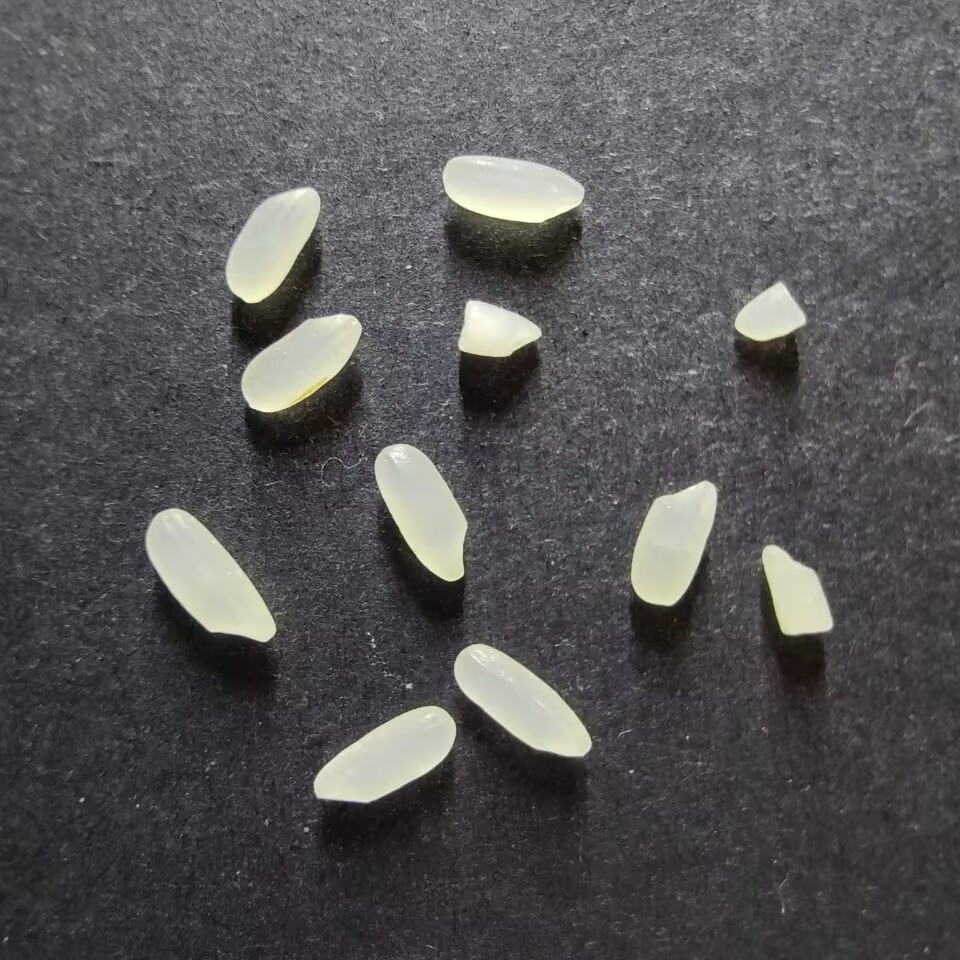broken: (761, 545, 833, 635), (456, 300, 542, 357), (733, 282, 806, 341)
rice: (144, 508, 277, 641), (452, 644, 592, 757), (312, 705, 455, 803), (373, 443, 468, 582), (240, 313, 362, 413), (224, 186, 320, 304), (630, 479, 717, 606), (441, 154, 583, 223)
